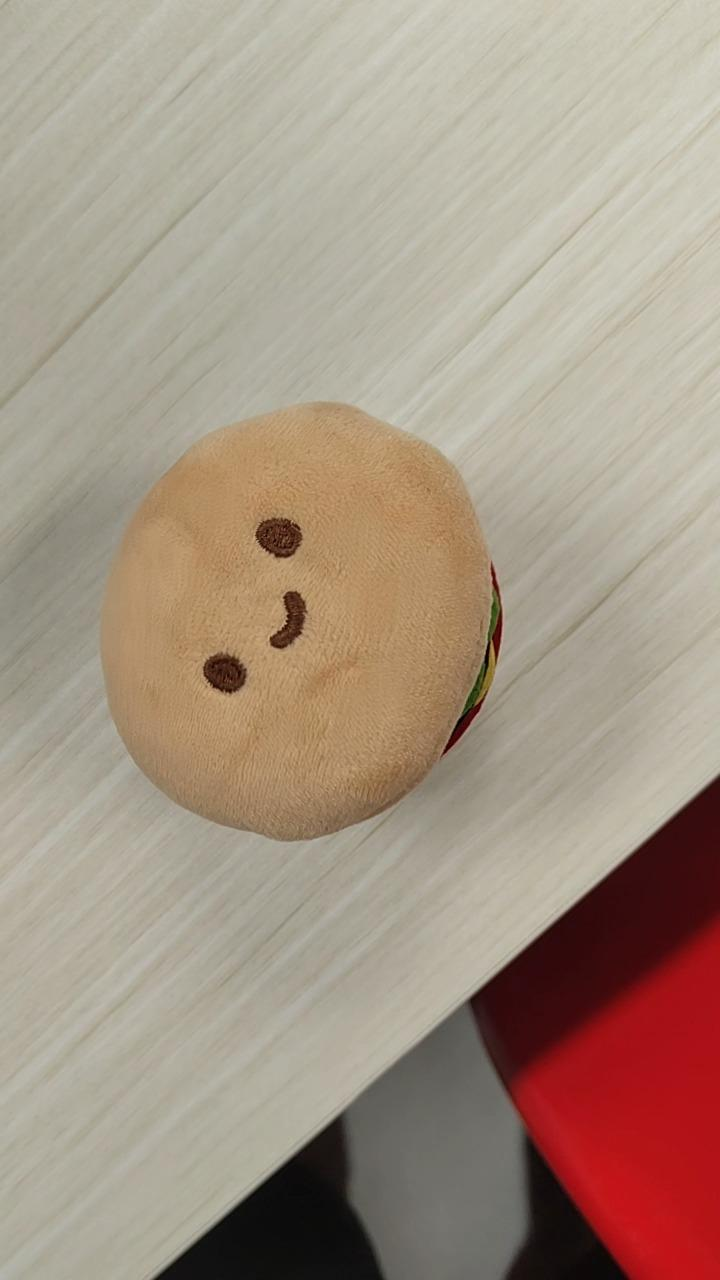hamburger: (98, 399, 504, 843)
